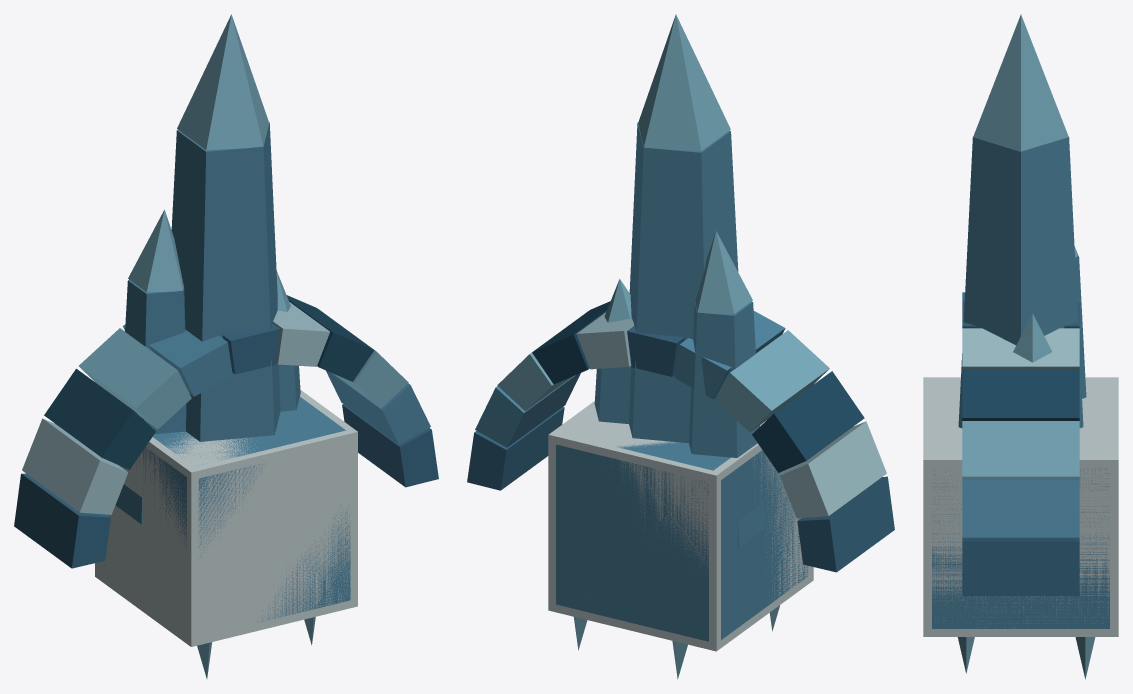
File: frost-kit.glb
3 views of the same model, side by side, from view 1: azimuth 30°, elevation 25°; view 2: azimuth 150°, elevation 25°; view 3: azimuth 270°, elevation 25° (orthographic).
Visible parts, largest first — view 1: snow, arch, crystal, slab; view 2: arch, crystal, slab, snow, roof; view 3: arch, crystal, snow, slab, roof.
Part boxes in pixels (<box>): snow: <box>95,390,357,646</box>; arch: <box>14,295,438,568</box>; crystal: <box>115,14,300,524</box>; slab: <box>104,397,350,622</box>; arch: <box>467,301,894,572</box>; crystal: <box>594,14,765,547</box>; slab: <box>556,441,808,641</box>; snow: <box>548,401,813,651</box>; roof: <box>574,605,779,679</box>; arch: <box>962,292,1079,596</box>; crystal: <box>958,14,1086,428</box>; snow: <box>923,377,1118,636</box>; slab: <box>932,468,1109,628</box>; roof: <box>957,637,1095,679</box>.
Bounding box in the file's own units: 2.2 × 3.58 × 1.
